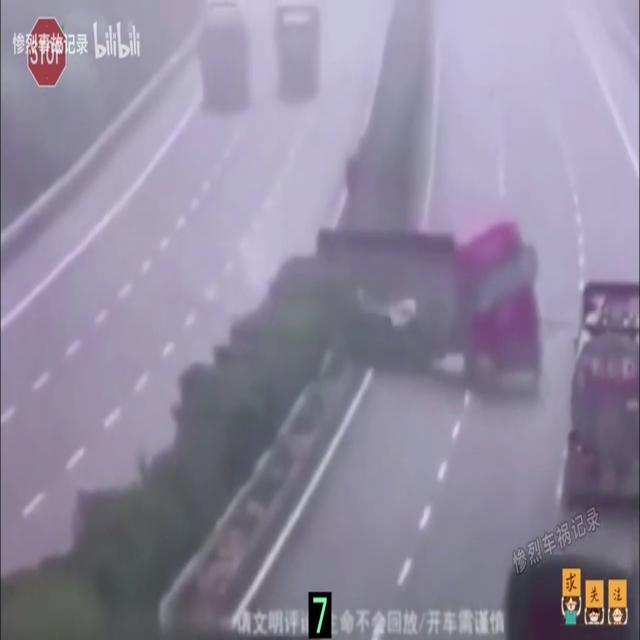single accident: (299, 159, 553, 384)
